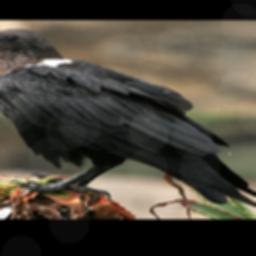Crow: (0, 27, 256, 210)
